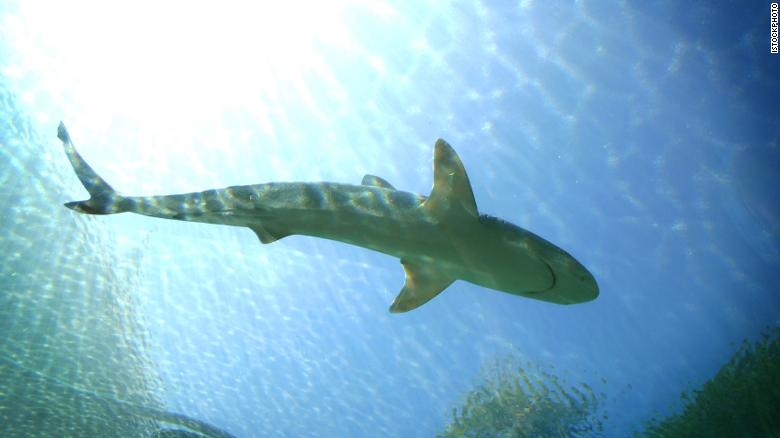shark: (50, 109, 612, 327)
